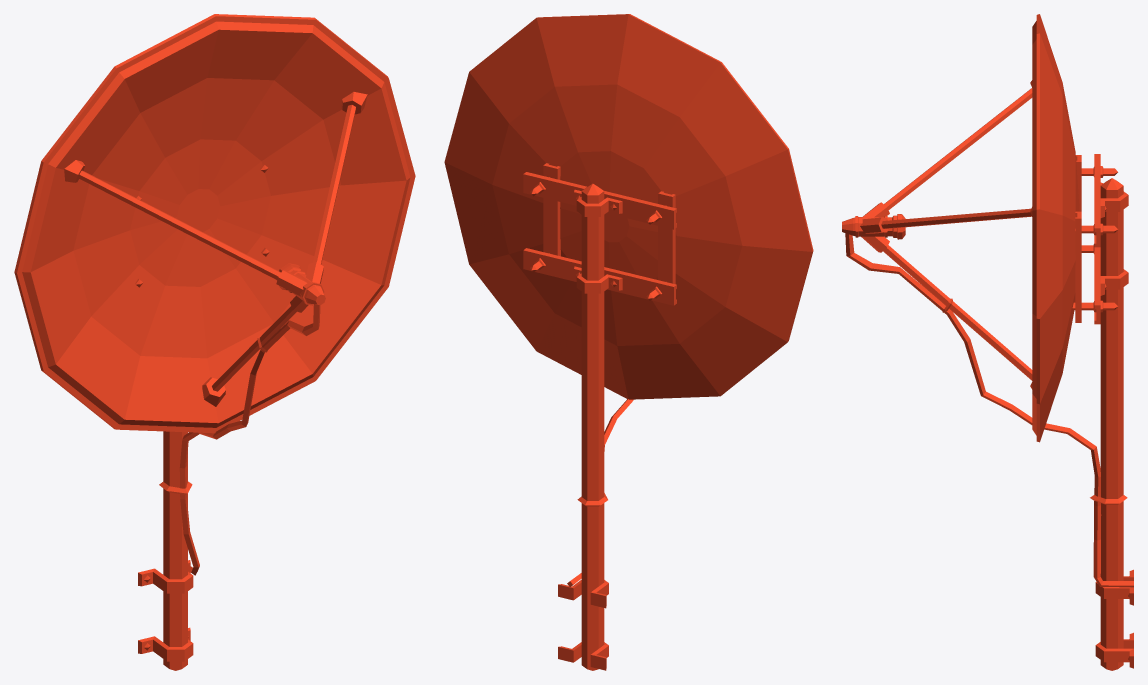
Rendered from SM_Satellite_C_City.fbx.
3 renders of one model, left to right at view 1: azimuth 30°, elevation 25°; view 2: azimuth 150°, elevation 25°; view 3: azimuth 270°, elevation 25°, orthographic. The views are drawn at different scales.
Visible parts, largest first — view 1: SM_Satellite_C_City; view 2: SM_Satellite_C_City; view 3: SM_Satellite_C_City.
Boxes of the visible parts, x1=… form: SM_Satellite_C_City: x1=14, y1=14, x2=415, y2=670; SM_Satellite_C_City: x1=444, y1=14, x2=813, y2=670; SM_Satellite_C_City: x1=842, y1=14, x2=1133, y2=670.
Bounding box in the file's own units: 1.01 × 1.65 × 0.685.
